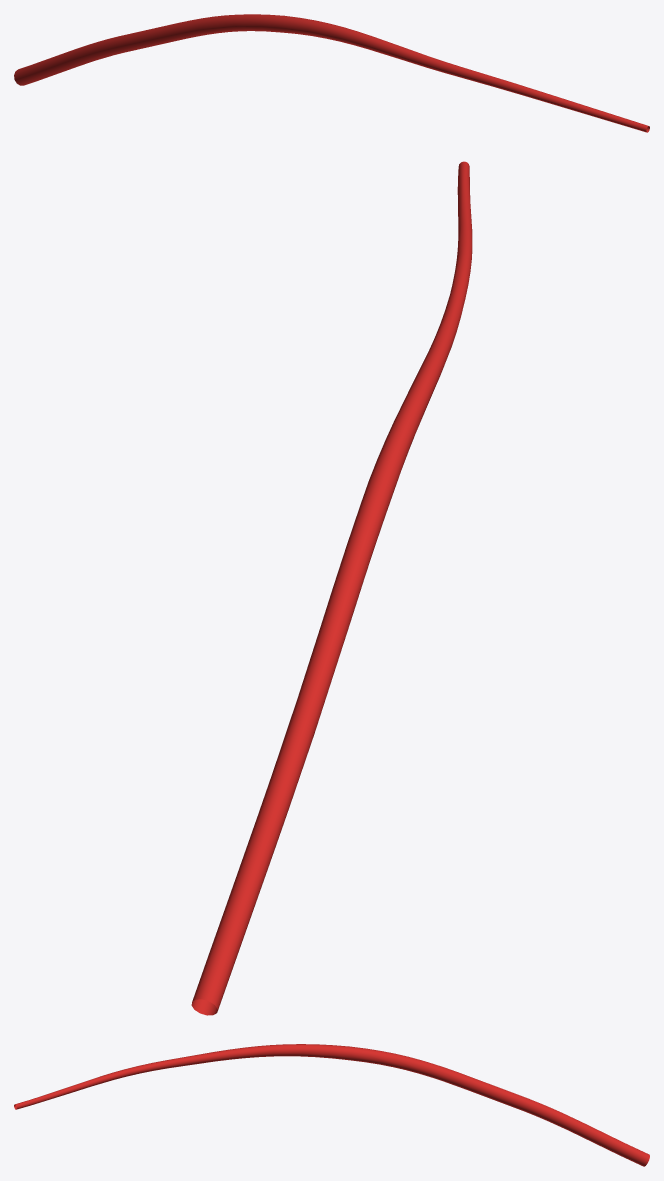
The model's file is circulatorio-lingual-vein-r.glb.
3 views of the same model, one above another, from view 1: azimuth 30°, elevation 25°; view 2: azimuth 150°, elevation 25°; view 3: azimuth 270°, elevation 25° (orthographic). The views are drawn at different scales.
Visible parts, largest first — view 1: Lingual vein.r; view 2: Lingual vein.r; view 3: Lingual vein.r.
Boxes of the visible parts, left/top/right/bottom form: Lingual vein.r: left=14, top=14, right=649, bottom=132; Lingual vein.r: left=191, top=161, right=472, bottom=1015; Lingual vein.r: left=14, top=1044, right=649, bottom=1166.
Size of the model in its own units: 0.0162 by 0.0128 by 0.046.
